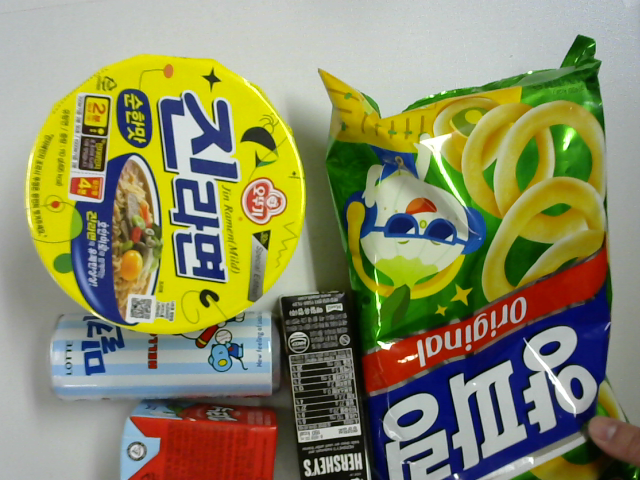Hush_Choco_Drink: (270, 289, 376, 480)
Jinlamyeon_Mild_Taste_Large_Cup: (16, 48, 309, 328)
Milkies_250ml: (31, 294, 292, 411)
Oninon_Ring: (316, 52, 624, 478)
Picnic_Apple: (107, 402, 282, 480)
